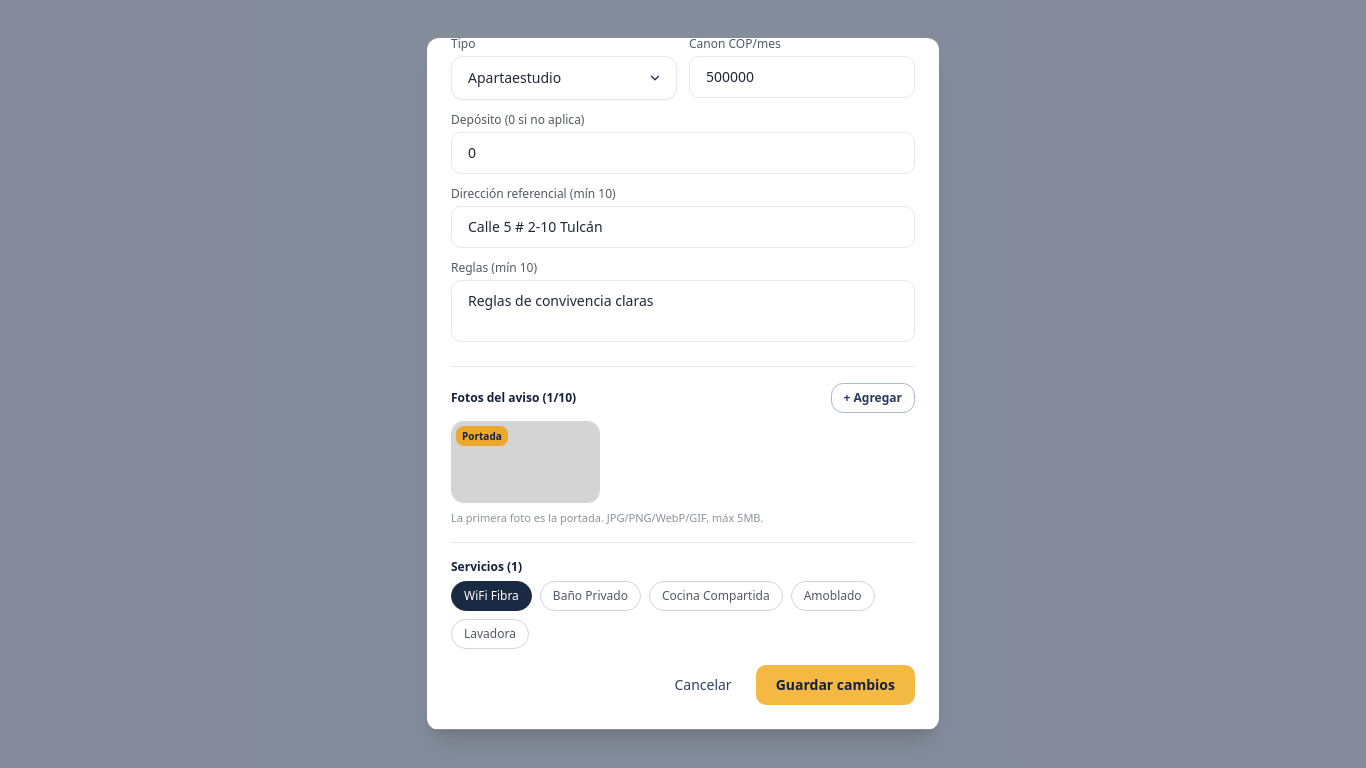
Test: EditarPublicacionModal › exige al menos 1 servicio antes de guardar
(page scrolled)
Click the button "WiFi Fibra": coordinates (491, 596) [451,581,532,611]
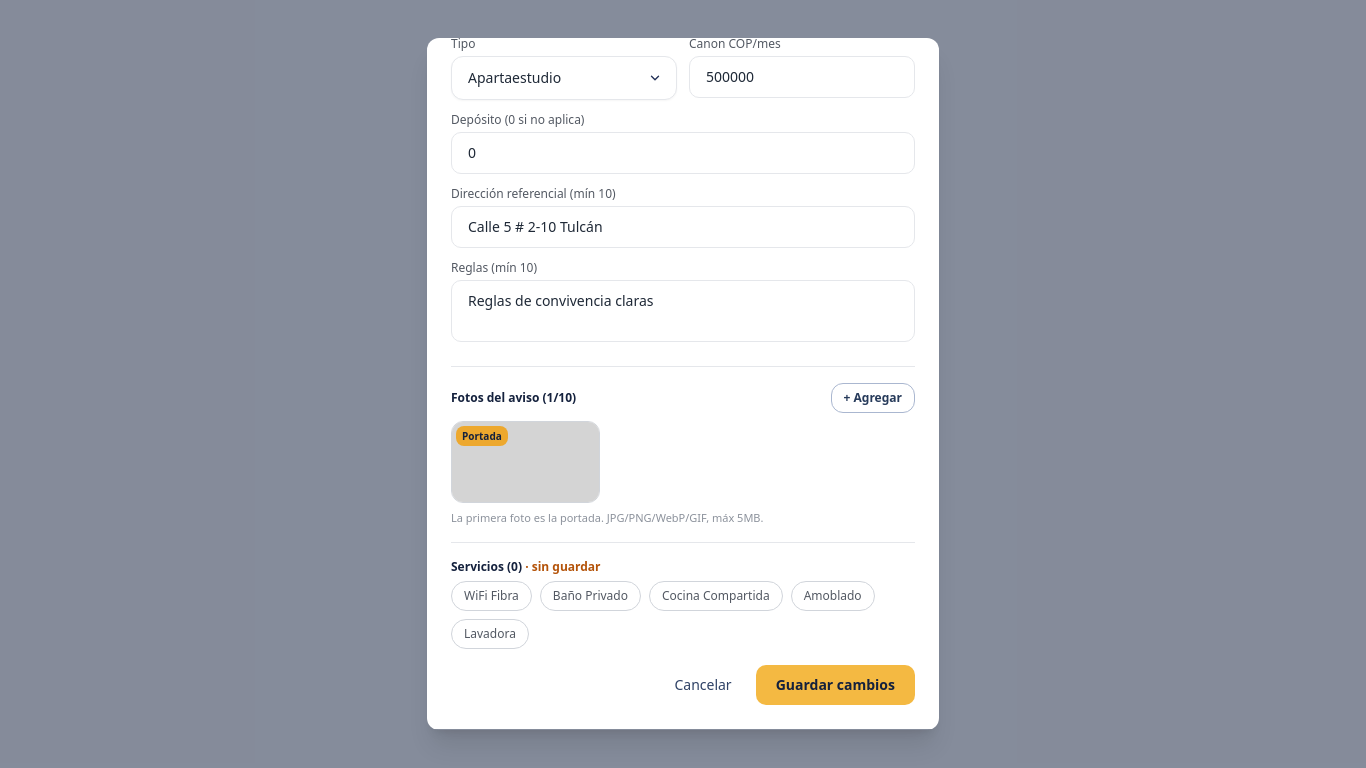
Click the button "Guardar cambios": coordinates (835, 685) [756,665,915,705]
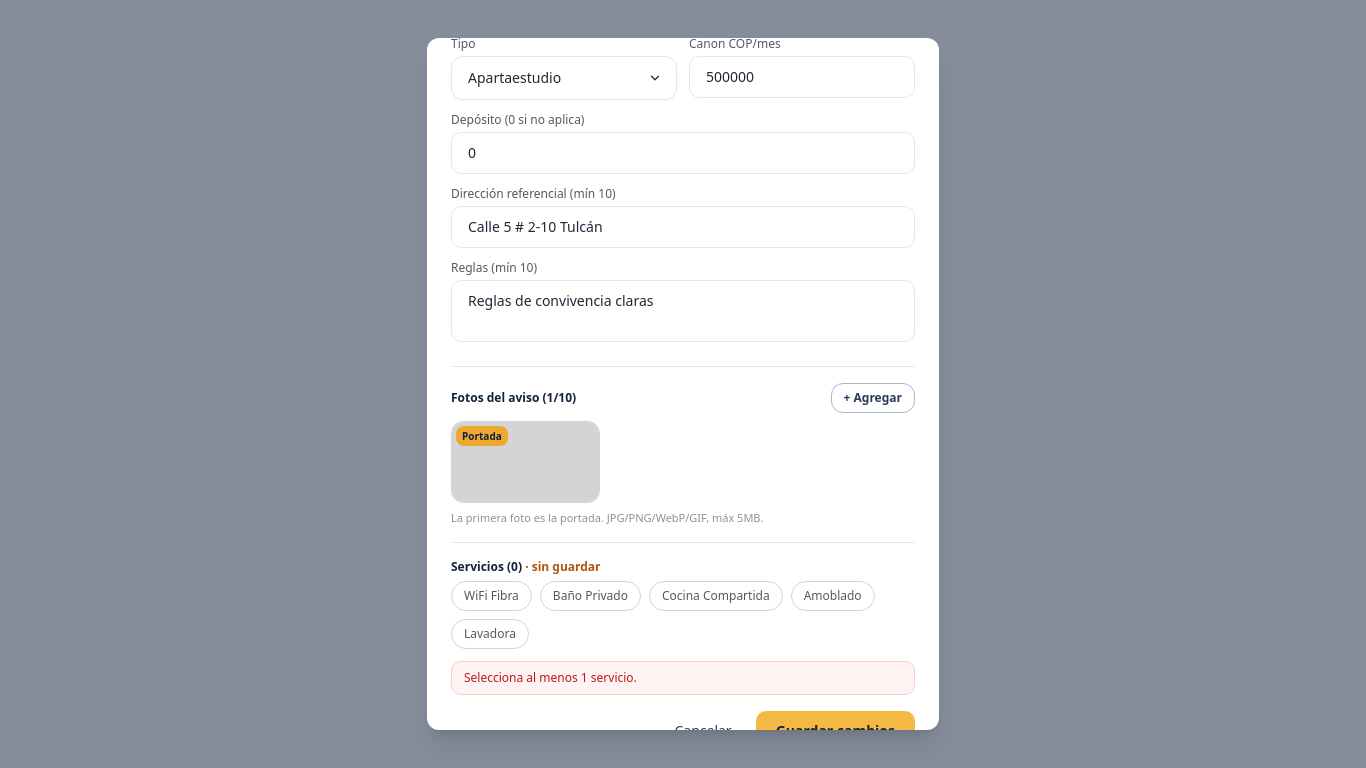
Expected: the text "Selecciona al menos 1 servicio." is shown, [451,661,915,695]
